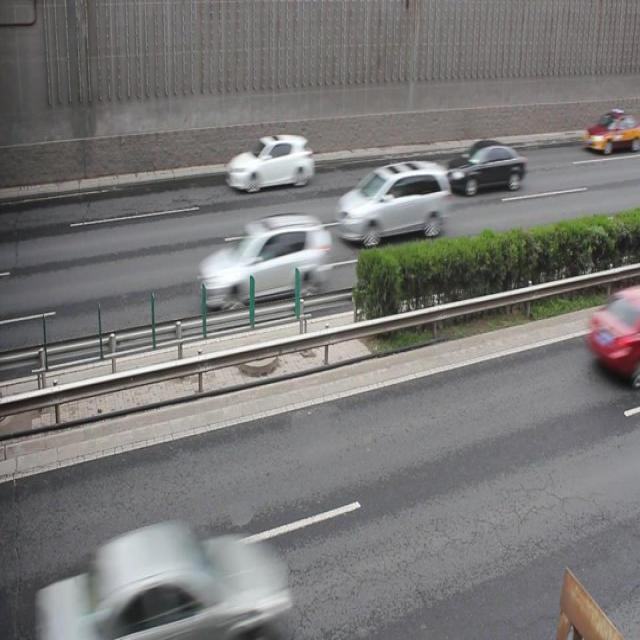car: (69, 515, 287, 640), (195, 212, 331, 309), (225, 131, 315, 191), (444, 137, 526, 195), (580, 108, 640, 154)
truck: (335, 157, 449, 244)
